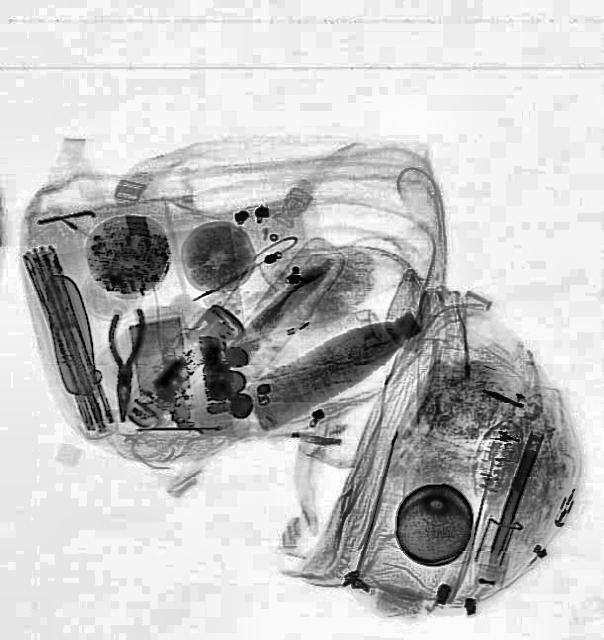Pliers: (105, 309, 145, 423)
